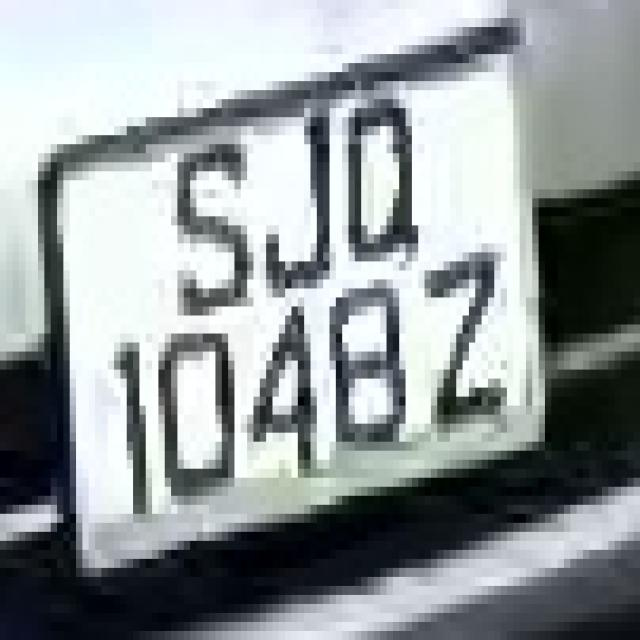0: (146, 297, 241, 496)
1: (95, 306, 158, 577)
4: (222, 279, 323, 514)
8: (311, 261, 418, 478)
J: (247, 45, 361, 352)
Q: (330, 45, 437, 270)
S: (152, 99, 254, 325)
Z: (412, 216, 526, 469)
